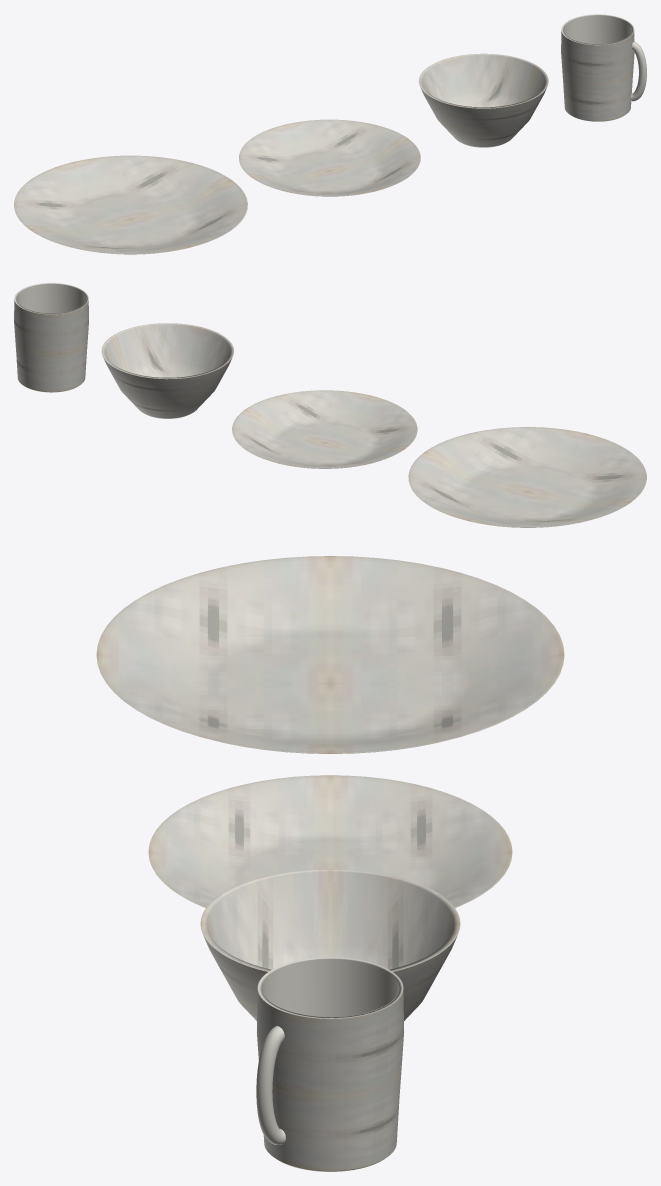
3 views of the same model, one above another, from view 1: azimuth 30°, elevation 25°; view 2: azimuth 150°, elevation 25°; view 3: azimuth 270°, elevation 25° (orthographic). The views are drawn at different scales.
Bounding box in the file's own units: 0.7997 × 0.1 × 0.27.
9 materials, 7 textured.
